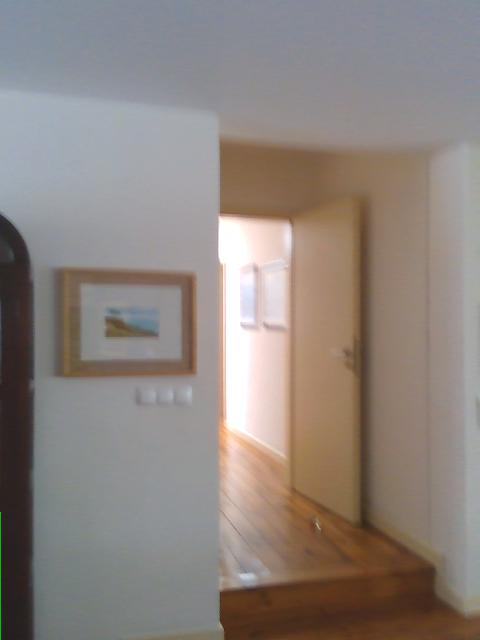open_door: (209, 205, 305, 495)
